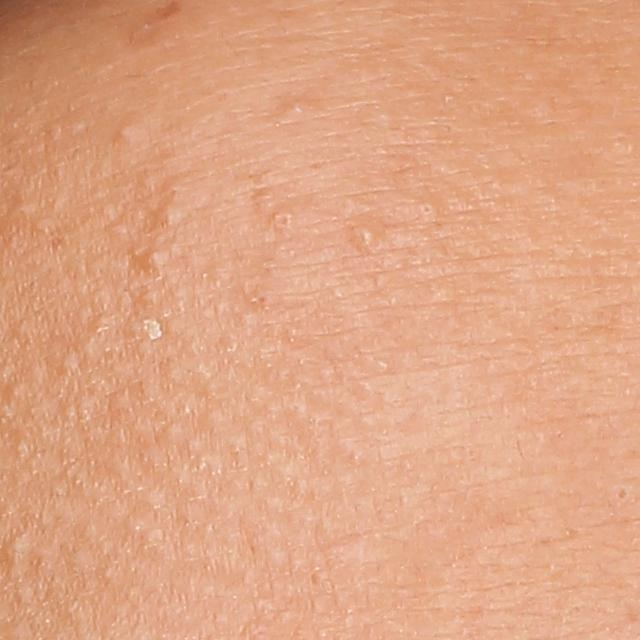comedo: (352, 221, 379, 252), (280, 97, 312, 122), (153, 202, 184, 225), (55, 352, 79, 380), (270, 206, 295, 231), (5, 202, 36, 221), (115, 121, 140, 142), (614, 485, 635, 505), (145, 248, 165, 269), (418, 202, 436, 218)
